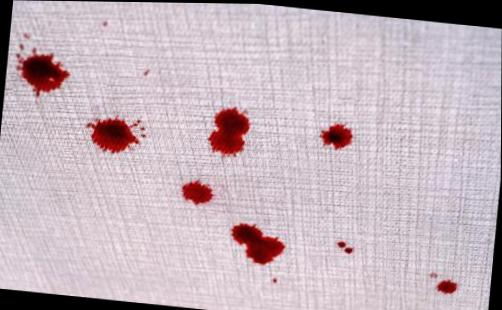Fire: (15, 49, 71, 98), (231, 222, 286, 265), (207, 106, 251, 159), (85, 116, 141, 154), (319, 123, 354, 150), (181, 180, 213, 205), (436, 279, 457, 294), (337, 241, 347, 248), (344, 247, 353, 253)
